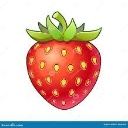strawberry: (24, 14, 103, 111)
